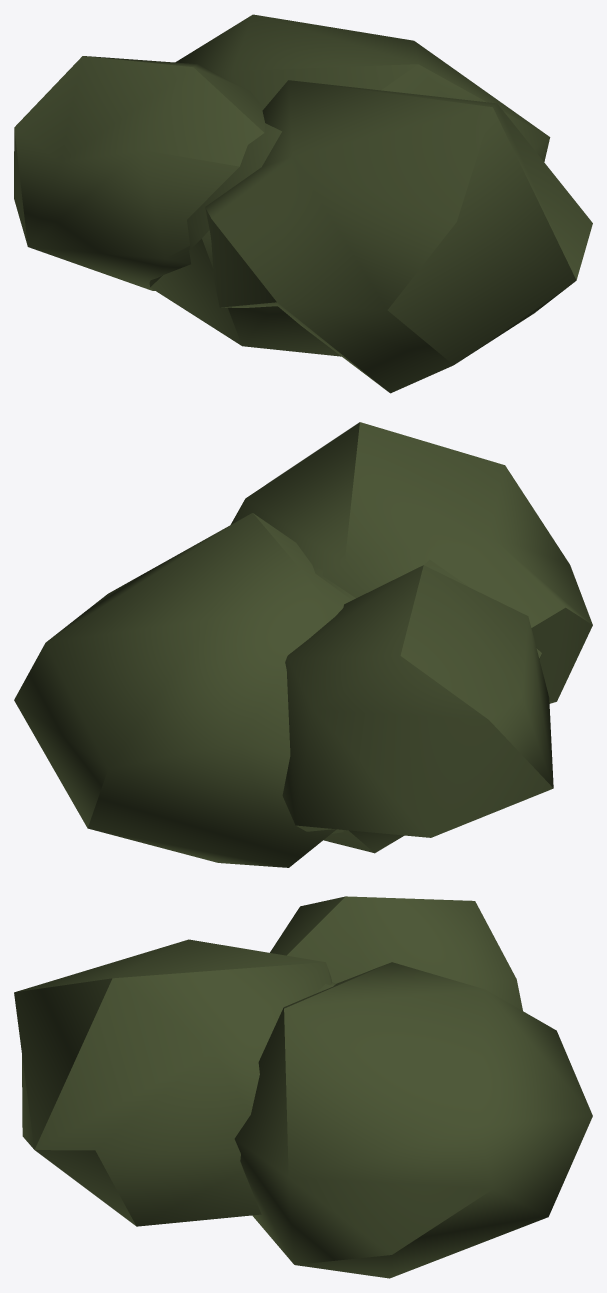
The model's file is shrub_LOD1.glb.
3 renders of one model, top to bottom at view 1: azimuth 30°, elevation 25°; view 2: azimuth 150°, elevation 25°; view 3: azimuth 270°, elevation 25°, orthographic. The views are drawn at different scales.
Parts seen in each view (by area): view 1: Body_LOD1; view 2: Body_LOD1; view 3: Body_LOD1.
Boxes of the visible parts, x1=… form: Body_LOD1: x1=14, y1=14, x2=592, y2=393; Body_LOD1: x1=14, y1=422, x2=592, y2=867; Body_LOD1: x1=14, y1=896, x2=592, y2=1278.
Size of the model in its own units: 2.41 by 1.31 by 2.55.
